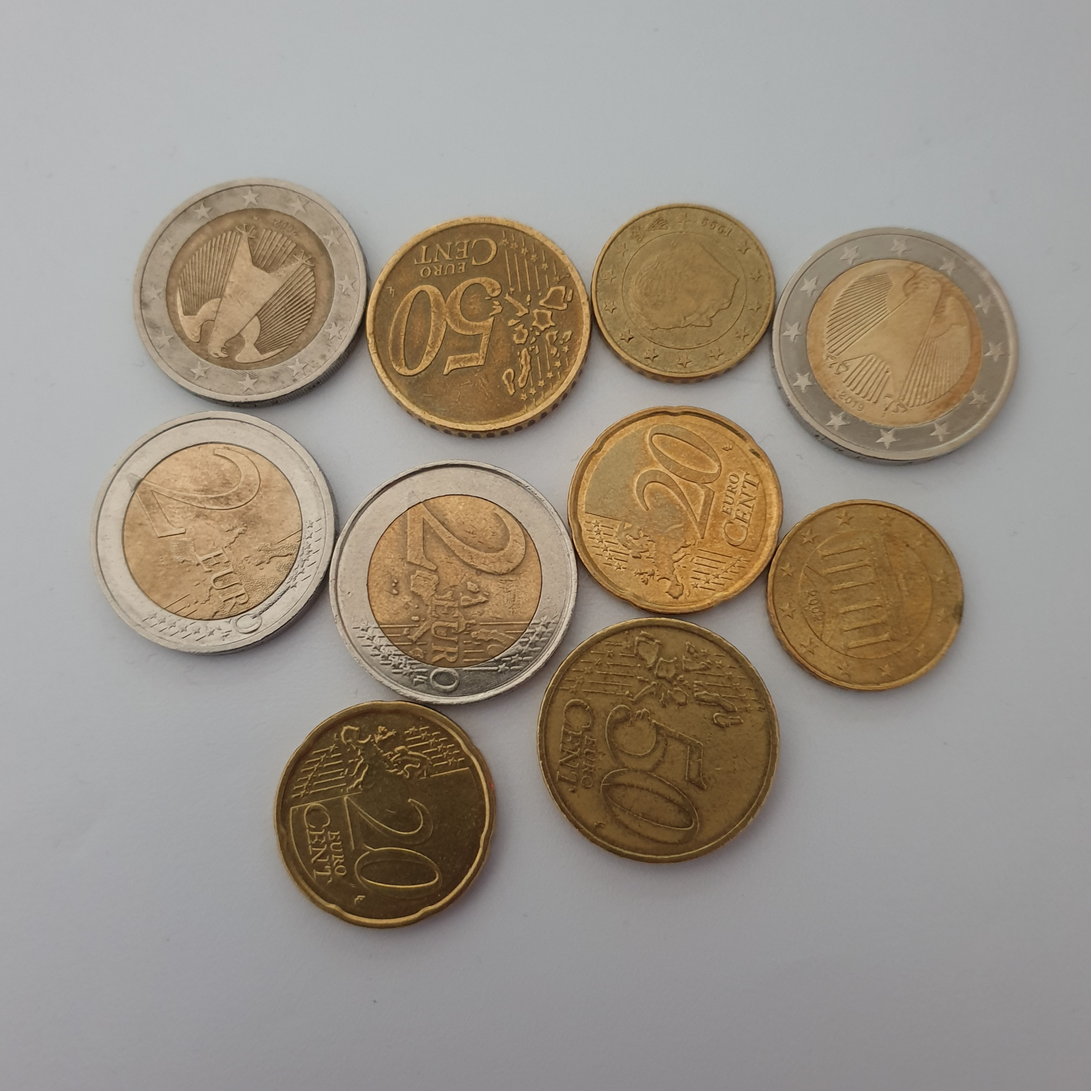10 cent: (583, 190, 785, 390), (762, 498, 965, 697)
2 euro: (765, 213, 1026, 479), (318, 447, 578, 714), (78, 397, 338, 663), (117, 160, 377, 426)
20 cent: (271, 698, 504, 931), (554, 399, 787, 631)
50 cent: (537, 618, 779, 870), (355, 196, 596, 449)
